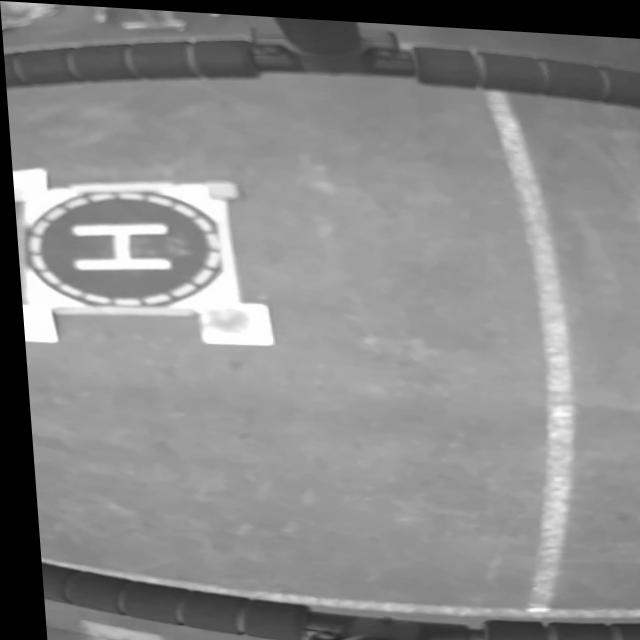Helipad: (66, 218, 172, 269)
